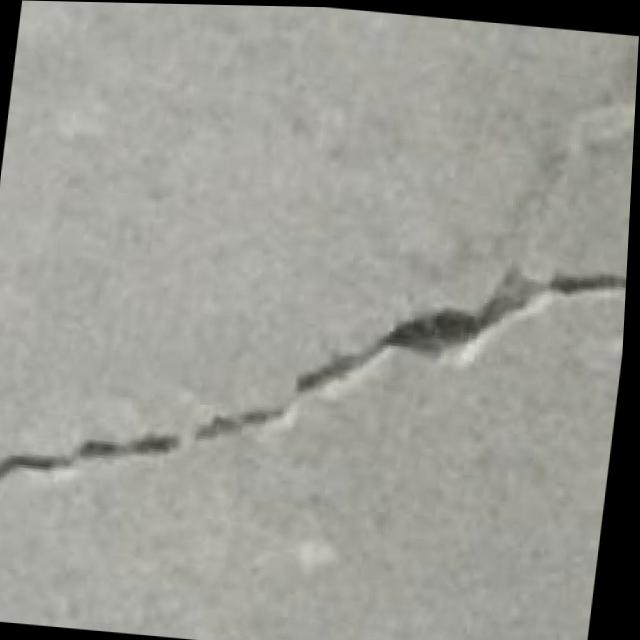Crack: (0, 197, 632, 572)
